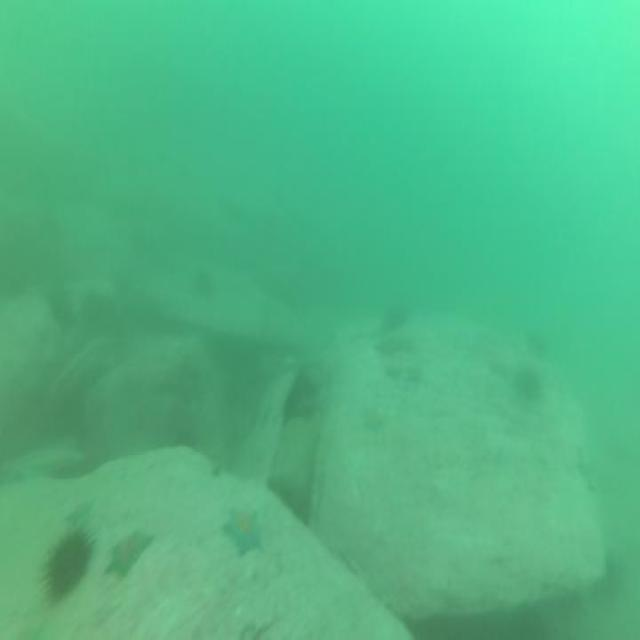echinus: (40, 524, 96, 614), (512, 362, 544, 409)
starfish: (101, 522, 154, 586), (221, 496, 266, 566), (64, 494, 97, 530)
